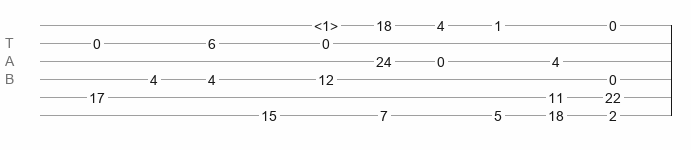0: (93, 36, 101, 46), (322, 36, 330, 46), (437, 54, 445, 64), (609, 72, 617, 82), (609, 18, 617, 28)
1: (494, 18, 502, 28)
11: (548, 90, 564, 100)
12: (318, 72, 334, 82)
15: (261, 108, 277, 118)
17: (89, 90, 105, 100)
18: (376, 18, 392, 28), (548, 108, 564, 118)
2: (609, 108, 617, 118)
22: (605, 90, 621, 100)
24: (376, 54, 392, 64)
4: (150, 72, 158, 82), (208, 72, 216, 82), (437, 18, 445, 28), (552, 54, 560, 64)
5: (494, 108, 502, 118)
6: (208, 36, 216, 46)
7: (380, 108, 388, 118)
harmonic: (314, 18, 338, 28)
